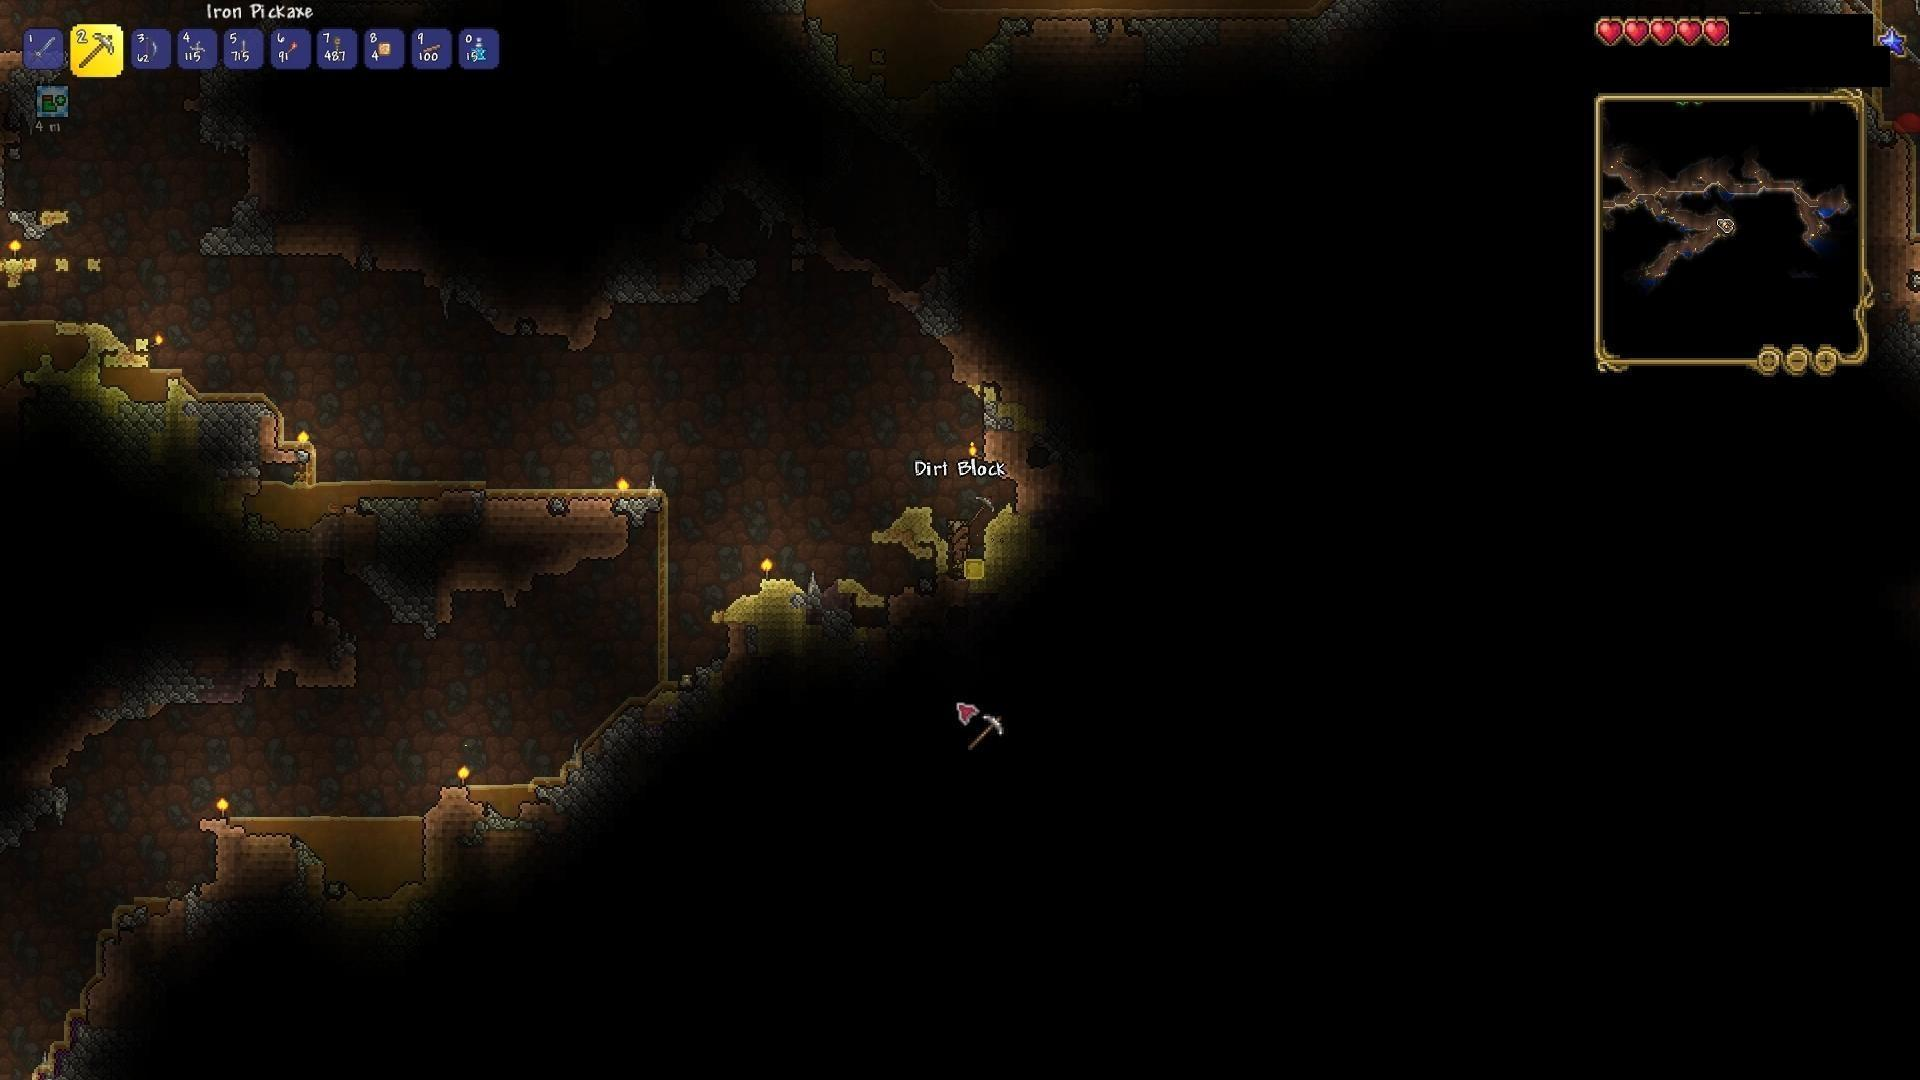heart: (1702, 17, 1733, 51), (1593, 16, 1626, 46), (1676, 15, 1704, 50), (1650, 16, 1676, 49), (1625, 15, 1651, 44)
liquid: (223, 804, 431, 843), (255, 475, 467, 500), (0, 301, 61, 338), (467, 774, 530, 799)
sand: (58, 310, 157, 378), (865, 498, 952, 570), (707, 575, 803, 628), (985, 498, 1042, 579)
stone: (615, 239, 752, 311), (550, 702, 647, 800), (178, 382, 276, 465), (371, 480, 430, 615), (179, 73, 248, 170), (942, 4, 1039, 71), (1282, 0, 1377, 58), (796, 12, 853, 103), (190, 200, 270, 262), (1109, 1, 1213, 49), (0, 775, 69, 845), (113, 400, 175, 463), (131, 649, 187, 713), (50, 1025, 107, 1080), (915, 276, 957, 347), (185, 890, 214, 942), (617, 493, 666, 521)
